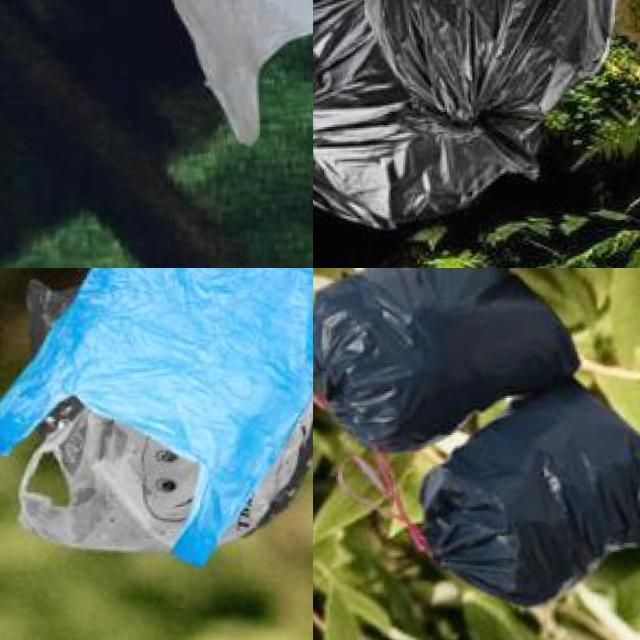waste: (0, 268, 313, 575), (313, 0, 554, 231), (12, 380, 313, 554), (426, 371, 640, 602), (313, 268, 579, 443), (365, 0, 608, 106), (143, 0, 313, 140)
